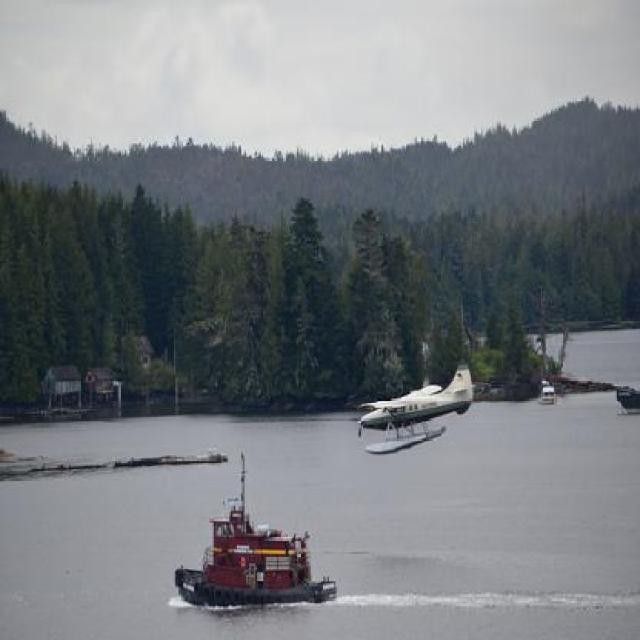ship: (172, 445, 339, 610)
